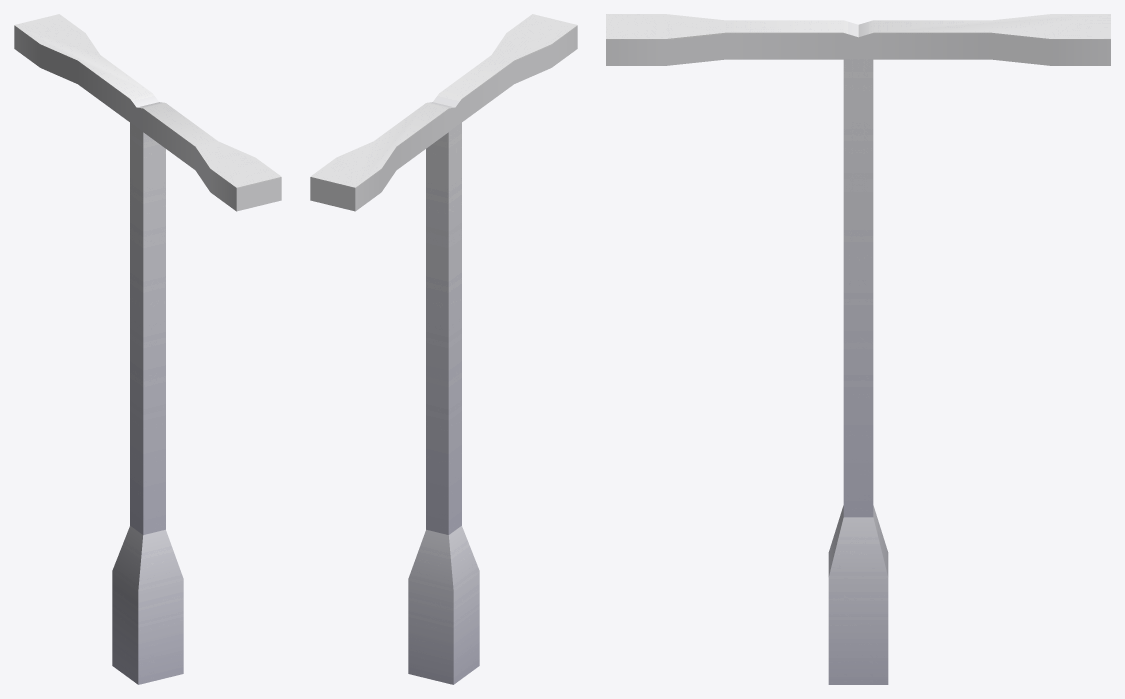
Rendered from light-square-double.glb.
The picture shows the model from 3 angles, left to right: view 1: azimuth 30°, elevation 25°; view 2: azimuth 150°, elevation 25°; view 3: azimuth 270°, elevation 25°; orthographic projection. The views are drawn at different scales.
Parts seen in each view (by area): view 1: light-square-double; view 2: light-square-double; view 3: light-square-double.
Part boxes in pixels (bbox=[...]): light-square-double: bbox=[14, 14, 281, 684]; light-square-double: bbox=[310, 14, 577, 684]; light-square-double: bbox=[606, 14, 1110, 684].
Size of the model in its own units: 0.05 by 0.6 by 0.425.
1 material, 1 textured.
